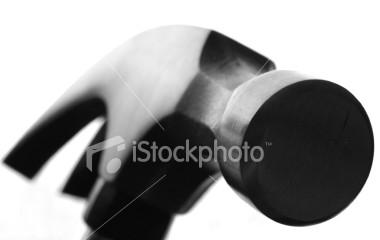hammer: (0, 20, 375, 239)
